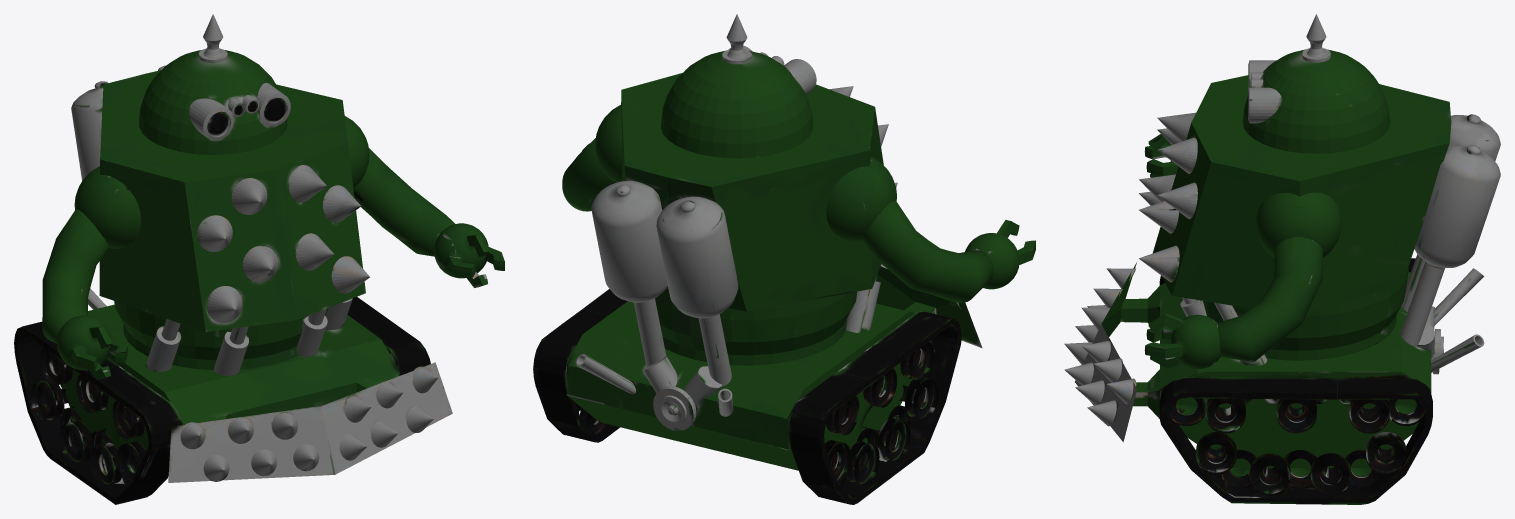
File: hroh.gltf
3 views of the same model, side by side, from view 1: azimuth 30°, elevation 25°; view 2: azimuth 150°, elevation 25°; view 3: azimuth 270°, elevation 25° (orthographic). The views are drawn at different scales.
Visible parts, largest first — view 1: Cube; view 2: Cube; view 3: Cube.
Part boxes in pixels (x1=…): Cube: x1=14, y1=14, x2=504, y2=504; Cube: x1=533, y1=14, x2=1035, y2=504; Cube: x1=1064, y1=14, x2=1500, y2=504.
Size of the model in its own units: 137 by 132 by 123.
Materials: 1 (1 with a texture image).
